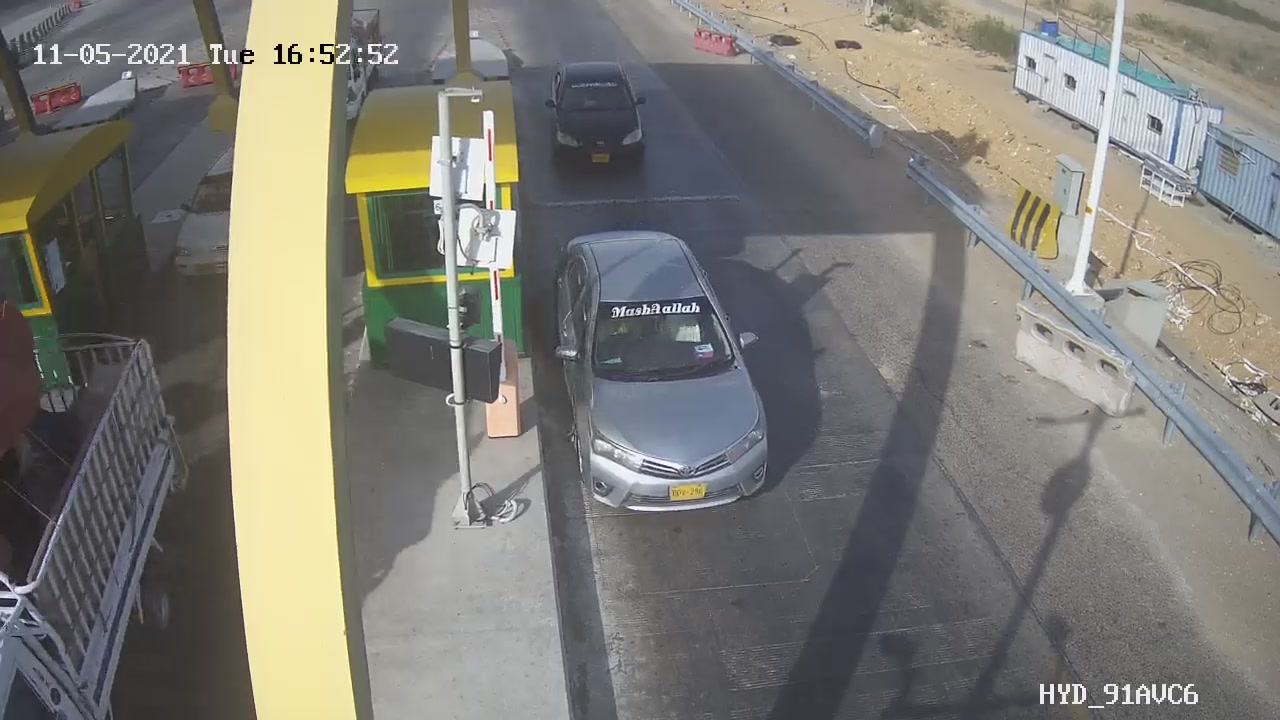F1: (531, 212, 805, 538), (537, 51, 668, 183)
